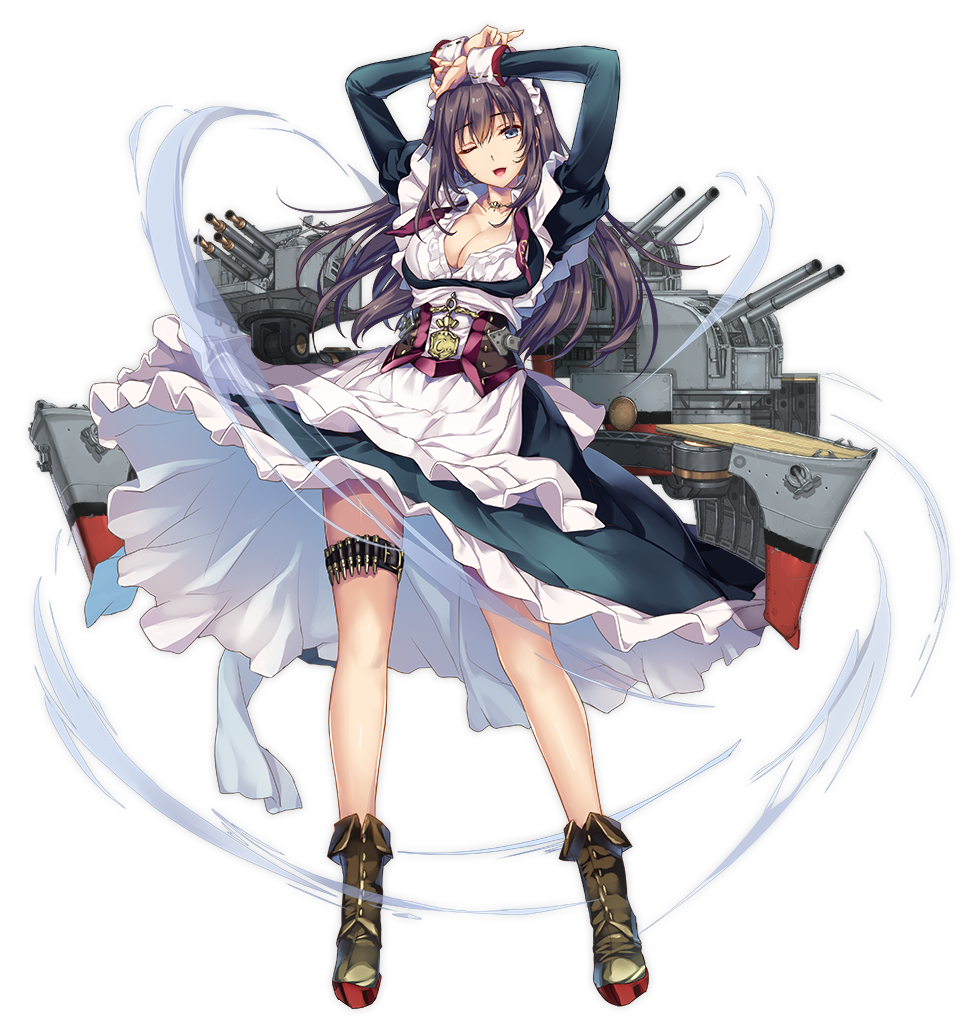person: (179, 47, 734, 737)
